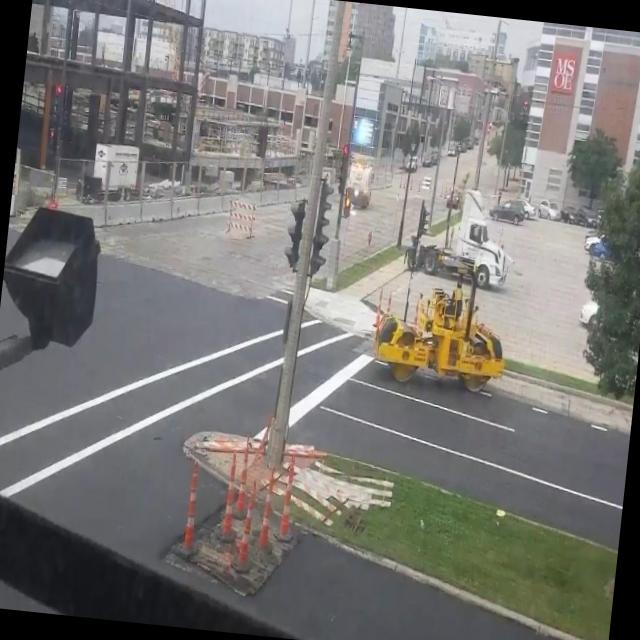Roller: (365, 248, 515, 396)
